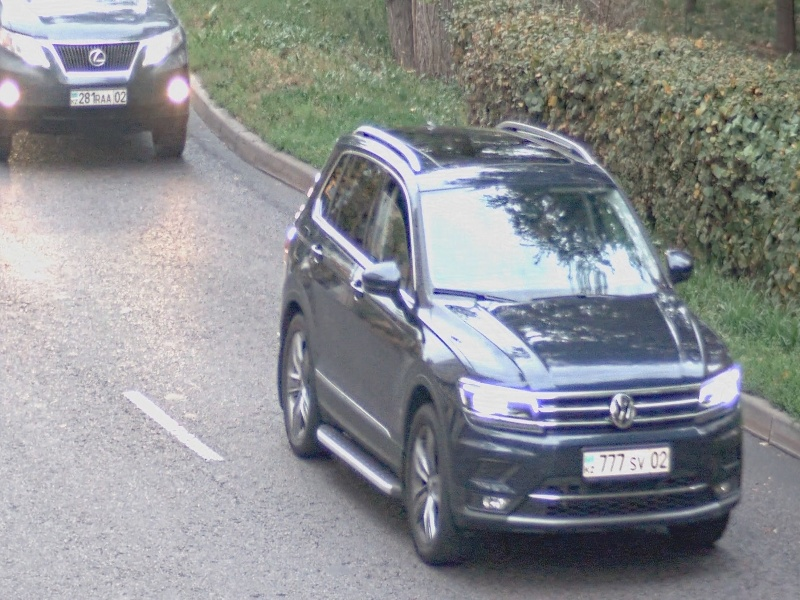plate: (581, 444, 672, 479), (69, 87, 128, 108)
